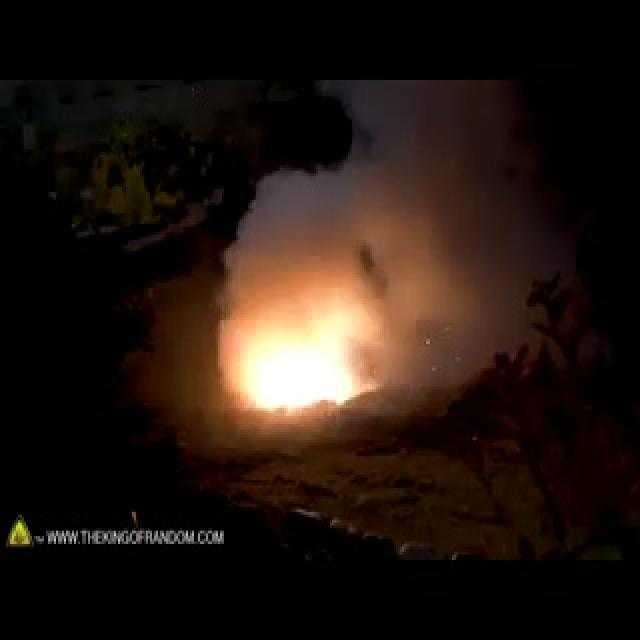Fire: (219, 232, 403, 419)
